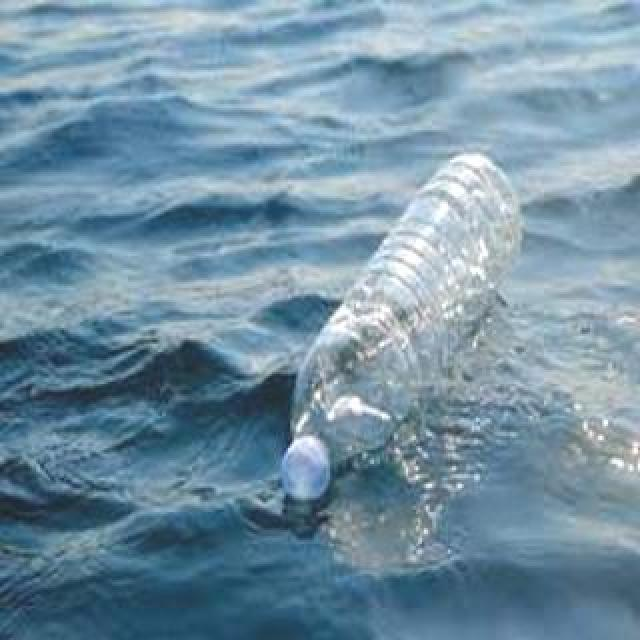Pet_Bottle: (276, 147, 534, 517)
